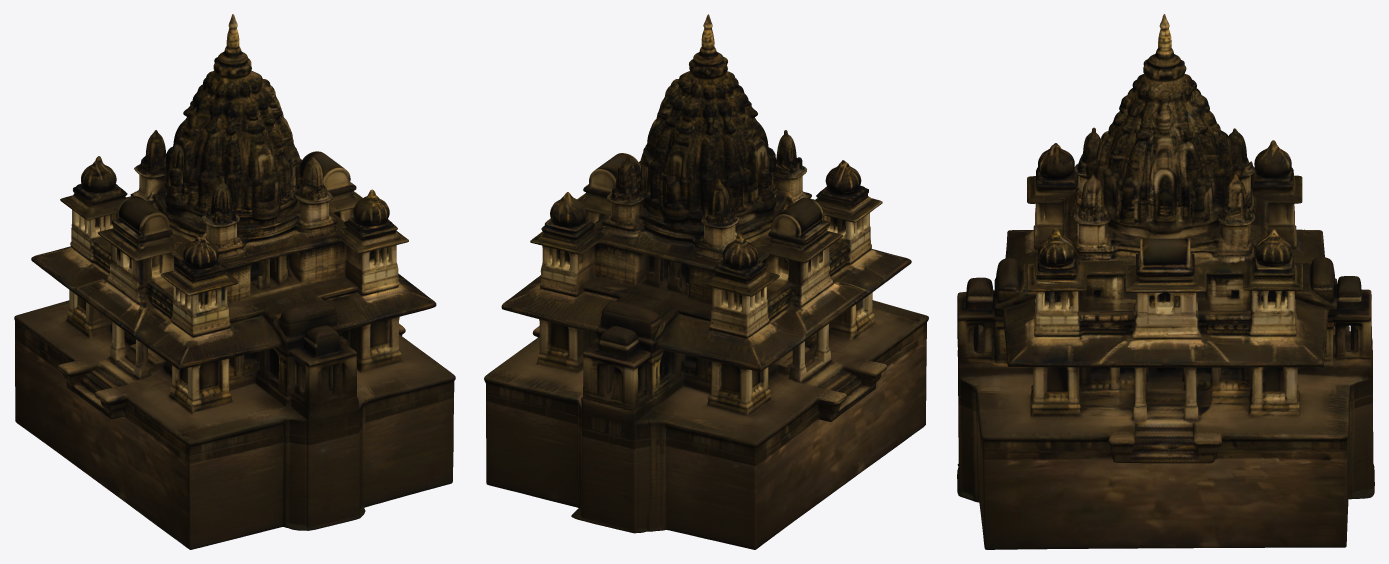
File: tripo_convert_d97e1ec1-fb77-4774-b832-920f74b7c56c.fbx
The picture shows the model from 3 angles, left to right: view 1: azimuth 30°, elevation 25°; view 2: azimuth 150°, elevation 25°; view 3: azimuth 270°, elevation 25°; orthographic projection. The views are drawn at different scales.
Parts seen in each view (by area): view 1: tripo_node_d97e1ec1; view 2: tripo_node_d97e1ec1; view 3: tripo_node_d97e1ec1.
Boxes of the visible parts, x1=… form: tripo_node_d97e1ec1: x1=14, y1=14, x2=455, y2=549; tripo_node_d97e1ec1: x1=484, y1=14, x2=928, y2=549; tripo_node_d97e1ec1: x1=957, y1=14, x2=1374, y2=549.
Size of the model in its own units: 0.7133 by 1 by 0.8091.
Materials: 1 (1 with a texture image).
